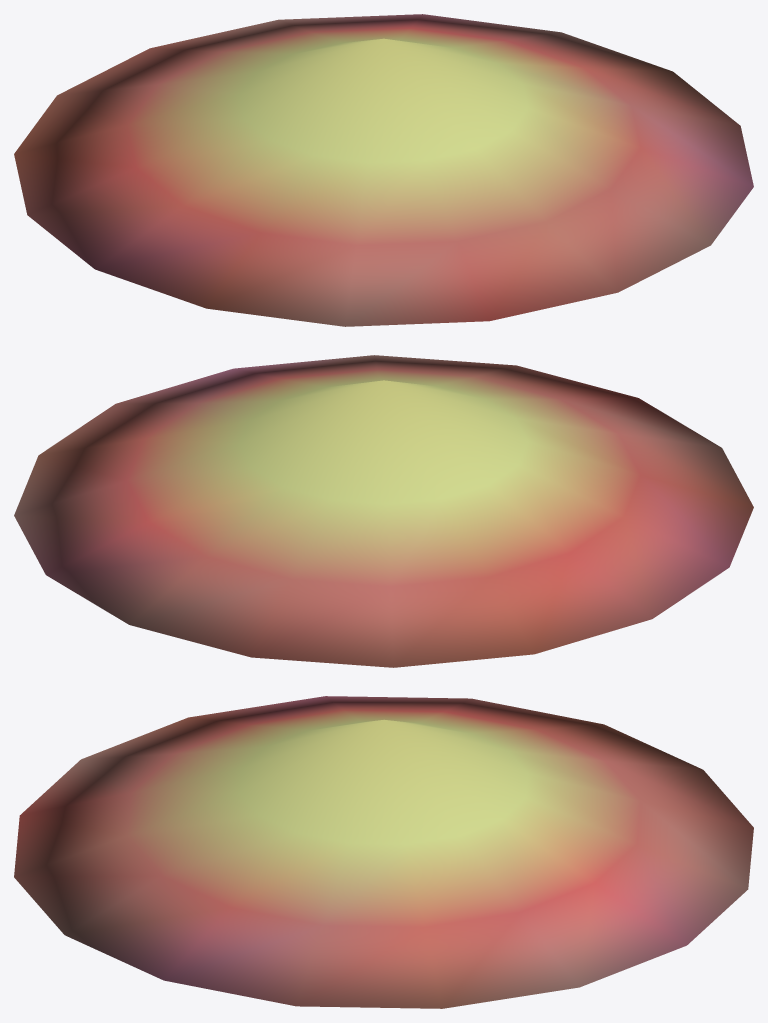
The model's file is space-galaxies-galaxy_v14.glb.
The picture shows the model from 3 angles, top to bottom: view 1: azimuth 30°, elevation 25°; view 2: azimuth 150°, elevation 25°; view 3: azimuth 270°, elevation 25°; orthographic projection.
Visible parts, largest first — view 1: Galaxy_v14; view 2: Galaxy_v14; view 3: Galaxy_v14.
Boxes of the visible parts, x1,y1,x2,y2 form: Galaxy_v14: [14, 14, 753, 326]; Galaxy_v14: [14, 355, 753, 667]; Galaxy_v14: [14, 696, 753, 1008].
Bounding box in the file's own units: 0.5 × 0.1797 × 0.5.
